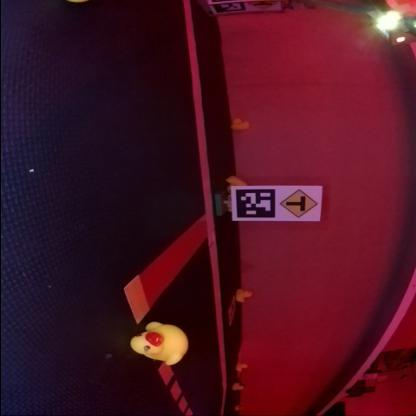Duckie: (130, 321, 186, 363), (226, 176, 246, 190), (231, 118, 249, 130), (237, 288, 251, 300), (236, 362, 247, 370), (235, 404, 242, 410), (235, 383, 242, 388)
Intersection sign: (284, 188, 318, 218), (248, 0, 276, 9)
QR code: (237, 190, 273, 218), (214, 1, 245, 13), (228, 302, 236, 323)
